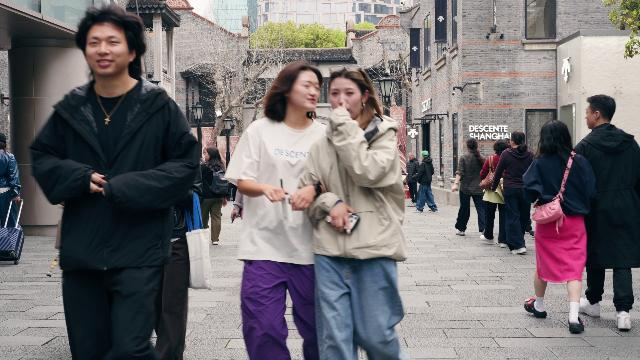person: (26, 5, 203, 360), (297, 65, 408, 360), (227, 53, 321, 360), (574, 94, 640, 330), (522, 119, 593, 333), (490, 131, 535, 255), (451, 137, 488, 236), (479, 139, 510, 246), (200, 146, 229, 245), (0, 132, 22, 230), (412, 151, 438, 213), (406, 152, 421, 207)
